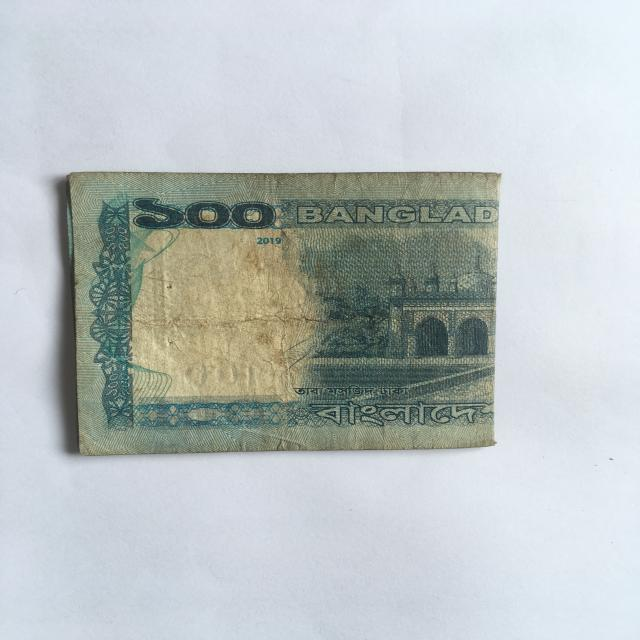Taka: (61, 160, 503, 460)
